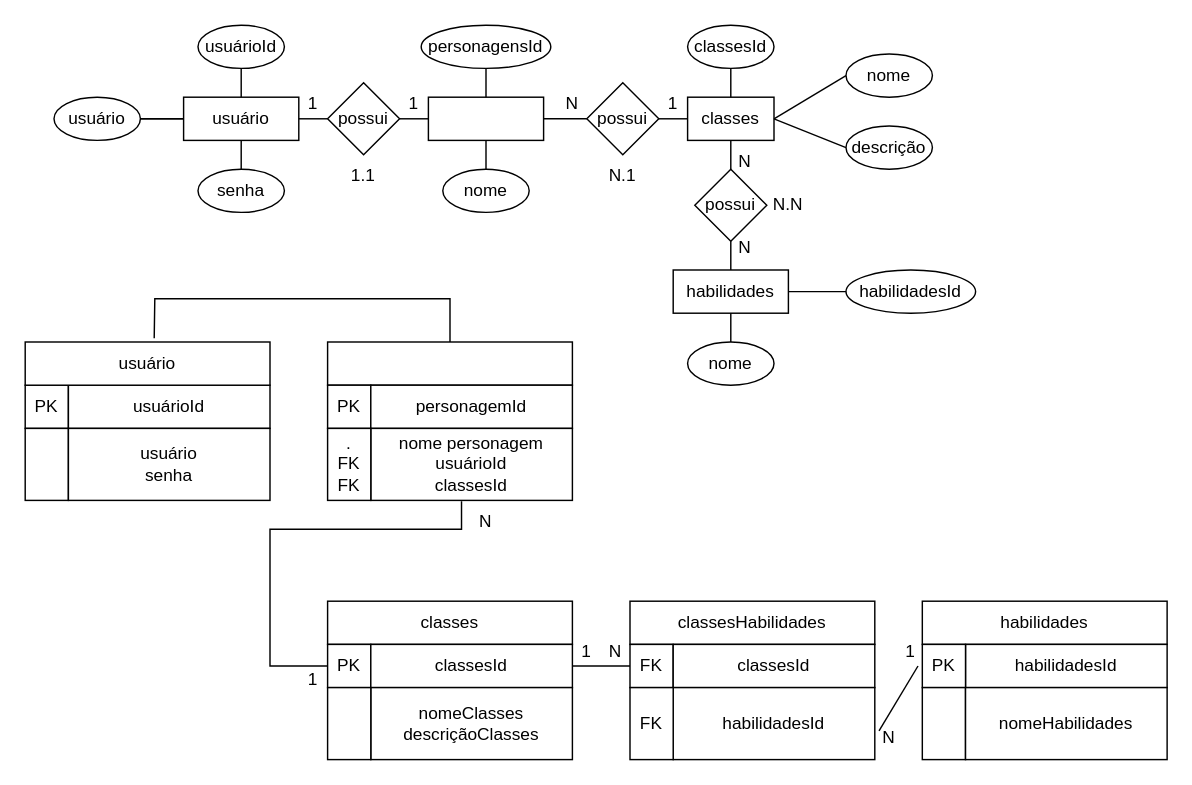
Some shapes in this 1192 by 785 pixel diagram are drawn without their labels. The shapes that lost their labels are listed below. From the top down, each one's centre as x and y in pixels, then its label:
At (485,118): "personagens".
At (449,363): "personagem".
